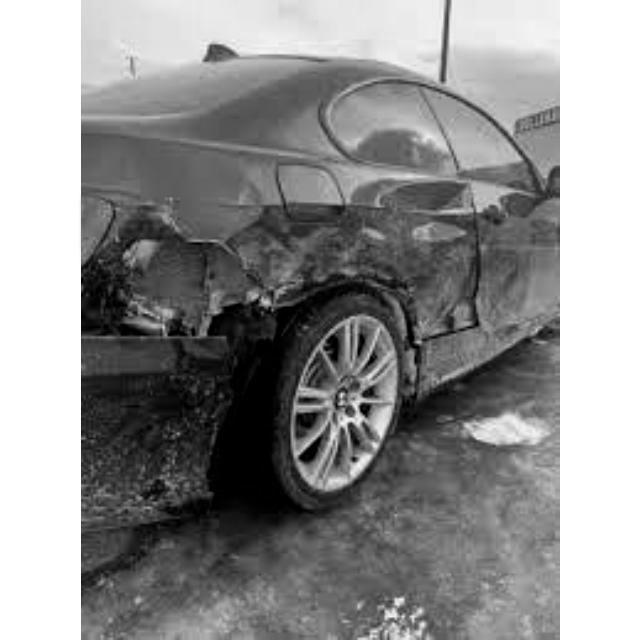doorouter-dent: (343, 156, 496, 341)
quaterpanel-dent: (132, 158, 366, 360)
